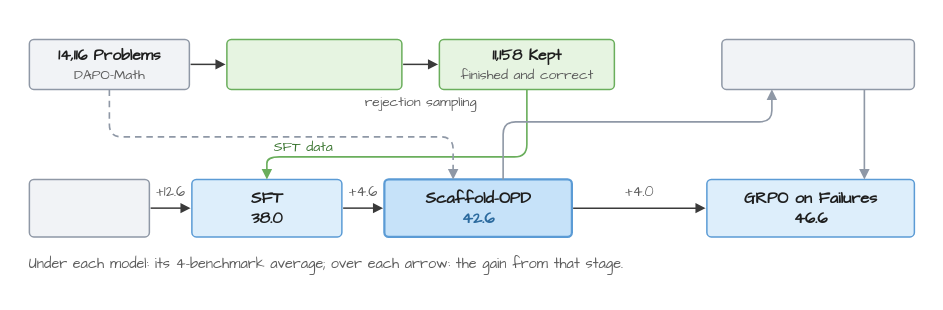
This 943x310 diagram has some shape labels left out. The shapes that lost their labels are listed below. From the top down, each one's box as (x1, y1, x2, y2) in pixels, then its label:
(226, 38, 402, 90): Teacher Solutions up to 16k tokens
(720, 38, 914, 90): 2,212 Failures teacher right, student never
(28, 178, 150, 237): Base 25.4
